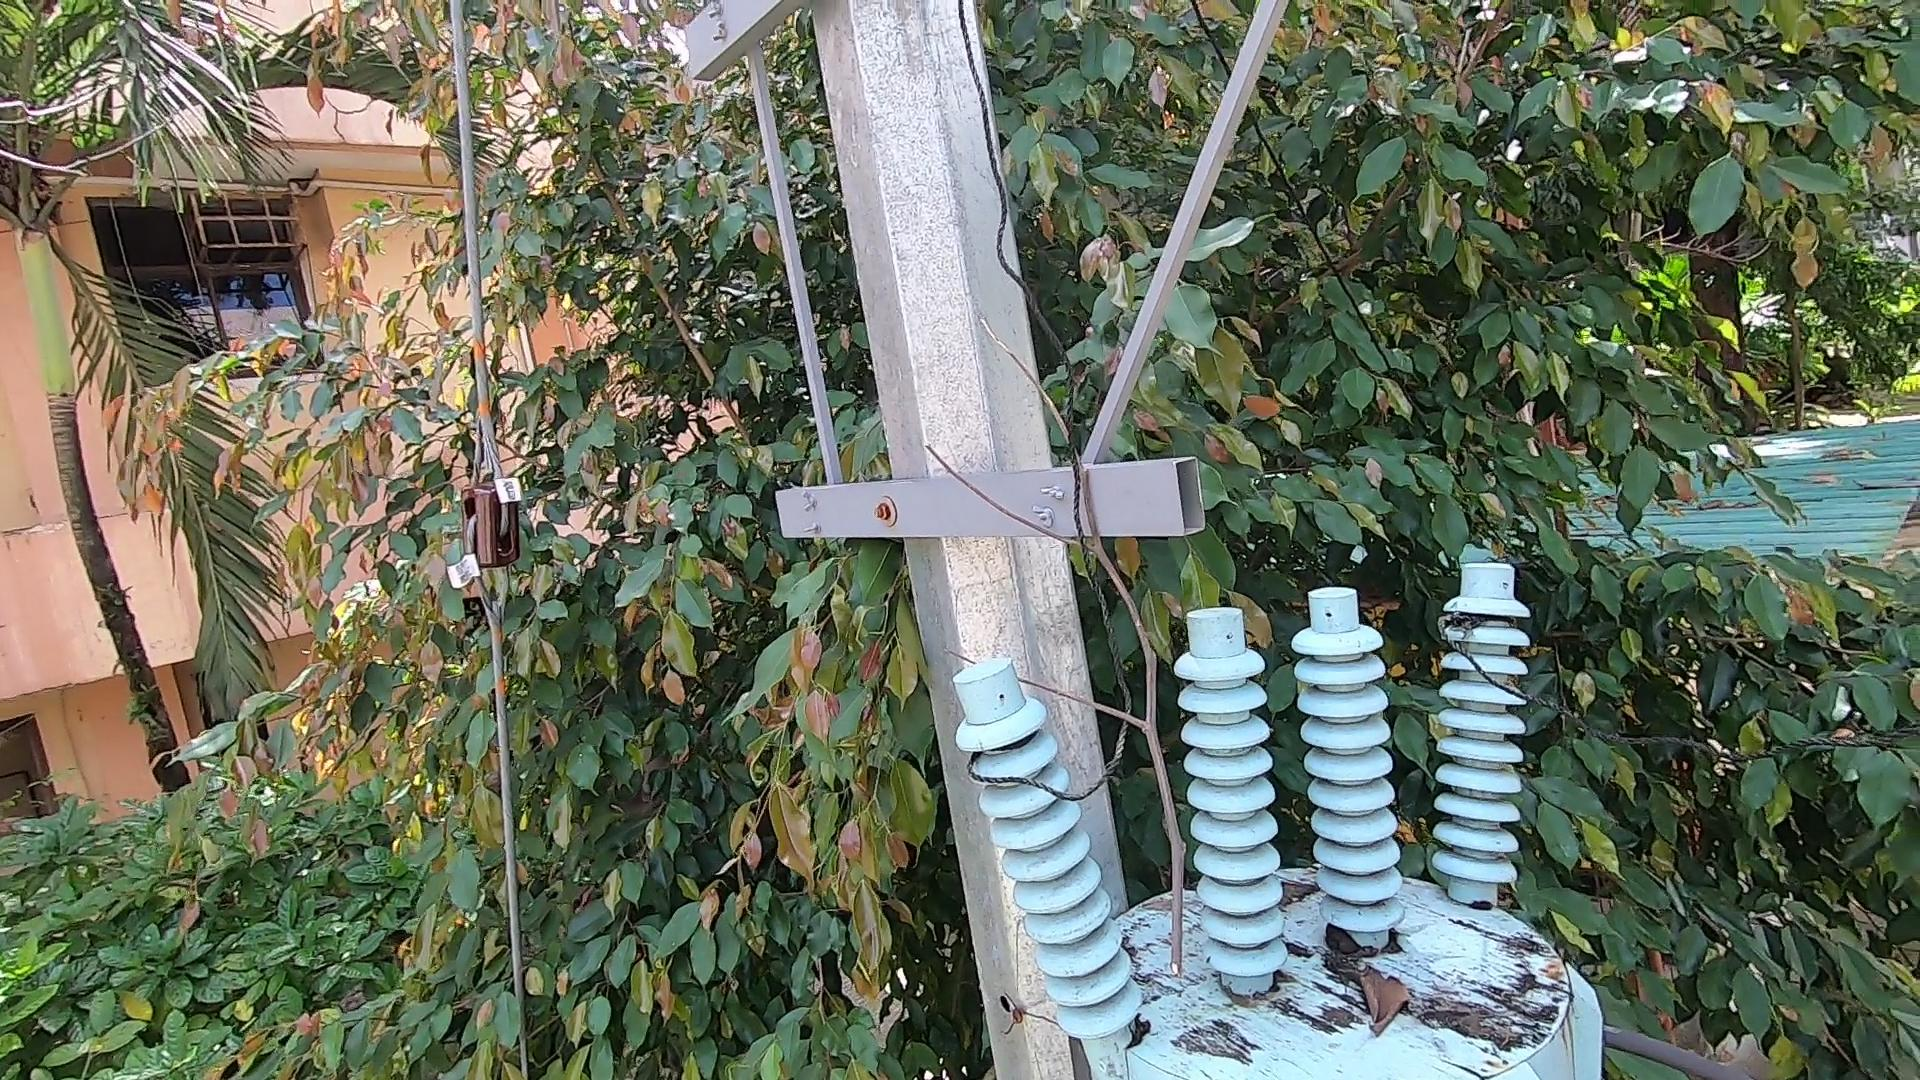leaf: (1346, 964, 1415, 1040), (1319, 916, 1381, 963)
tree branch: (902, 309, 1218, 989)
